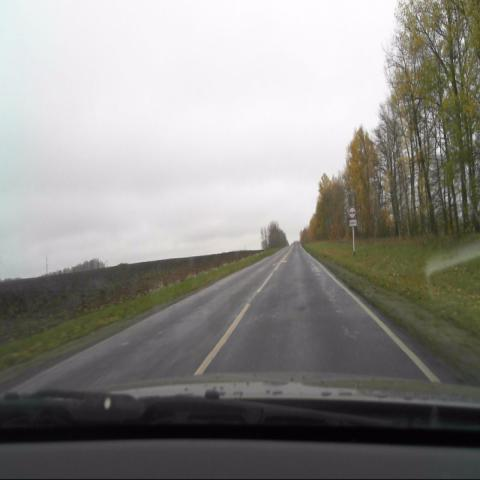3_20: (349, 207, 356, 218)
